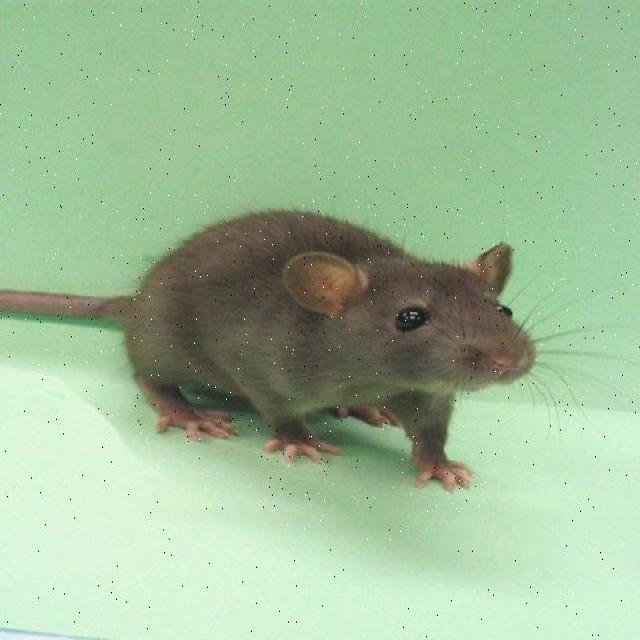rat: (71, 203, 544, 497)
